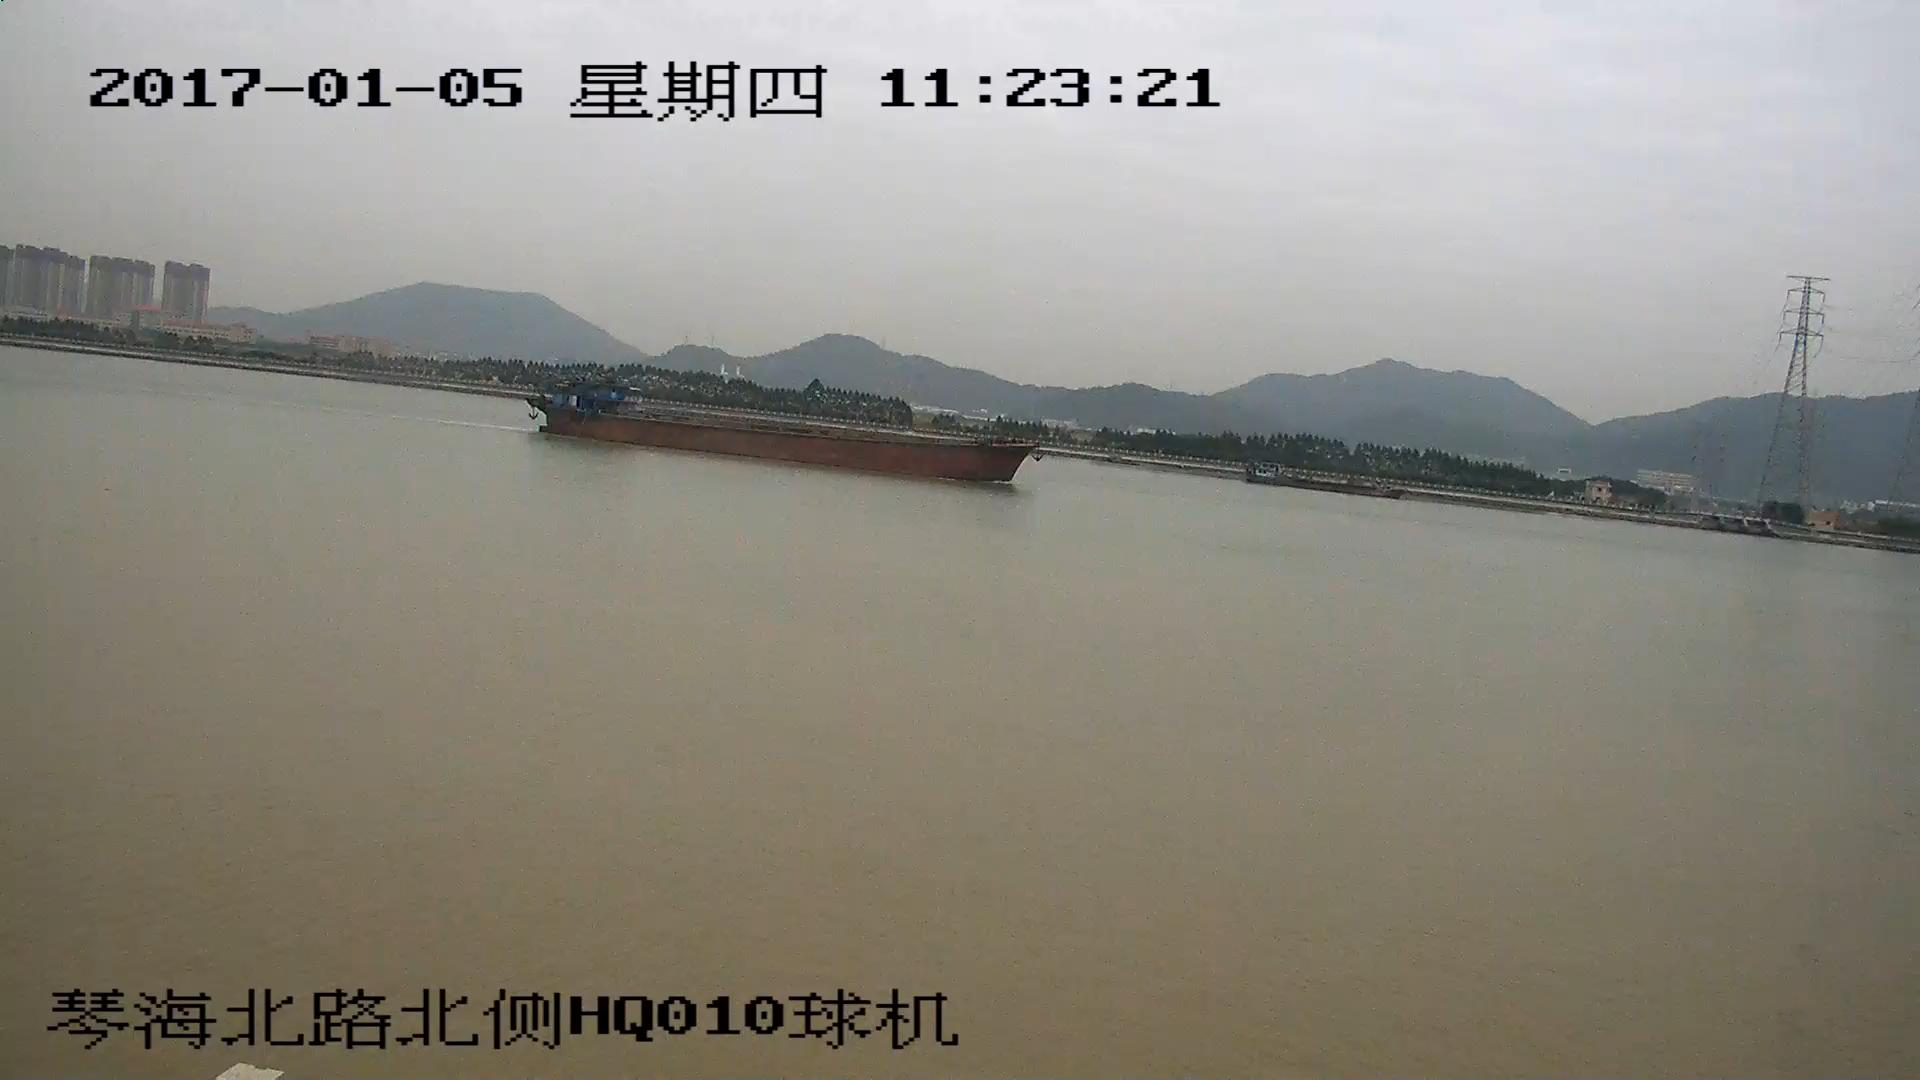bulk cargo carrier: (528, 358, 1028, 475)
